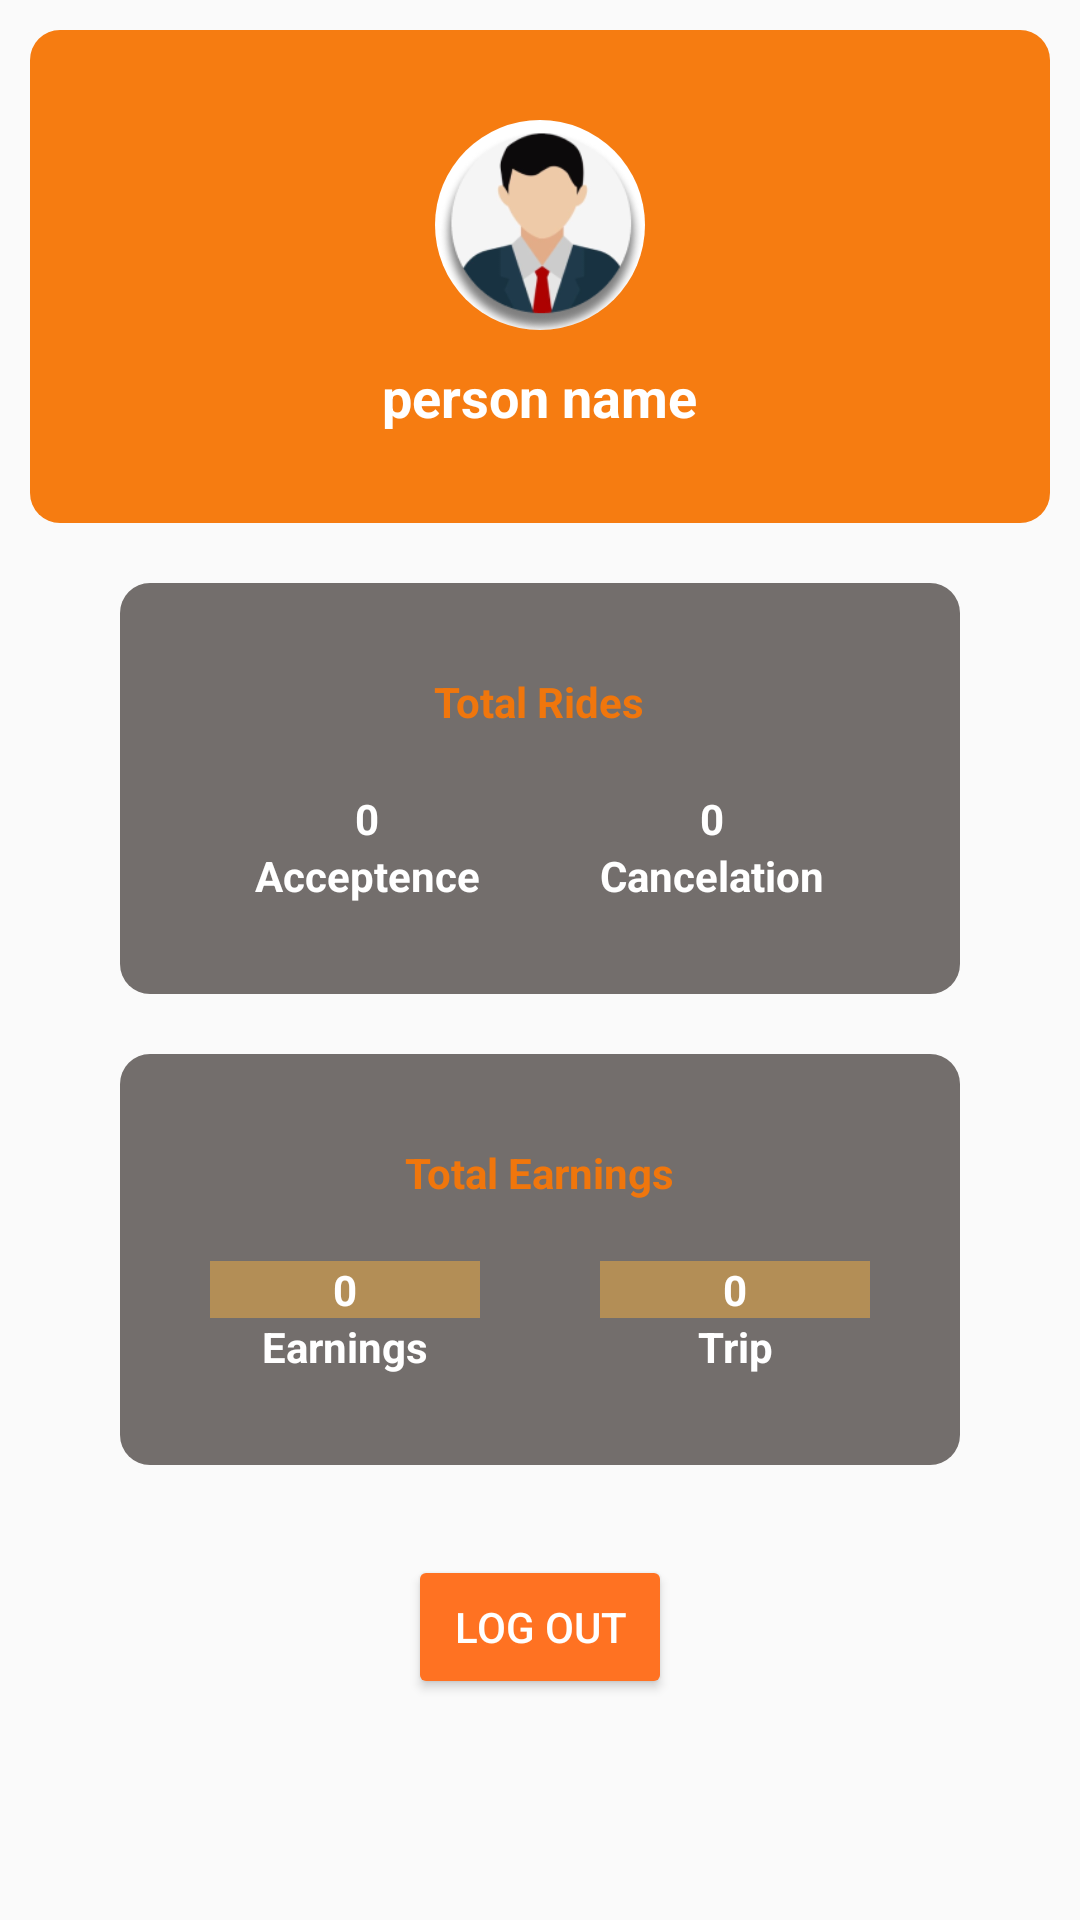

Named icons in this screenshot (1080x1920) and their bounding boxes, [x1,y1,x2,y2]:
personsback: [435,120,645,330]
